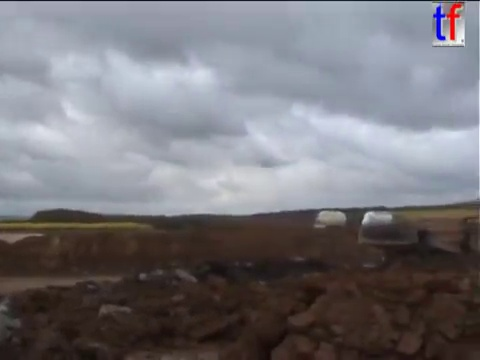truck: (355, 212, 480, 278), (358, 208, 408, 235), (311, 209, 350, 234)
